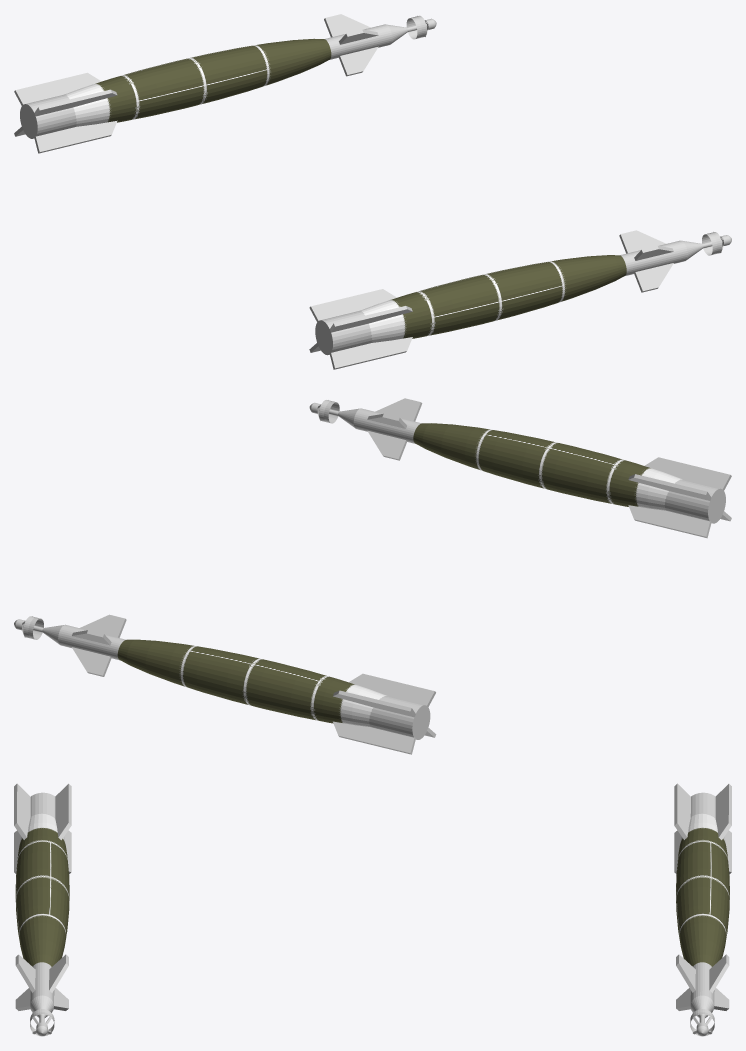
Rendered from f15egbu1026.glb.
3 views of the same model, one above another, from view 1: azimuth 30°, elevation 25°; view 2: azimuth 150°, elevation 25°; view 3: azimuth 270°, elevation 25° (orthographic). The views are drawn at different scales.
Parts seen in each view (by area): view 1: 球.015, 球.003; view 2: 球.003, 球.015; view 3: 球.003, 球.015.
Boxes of the visible parts, <box> form: 球.015: <box>14,14,436,153</box>; 球.003: <box>309,230,731,369</box>; 球.003: <box>309,398,731,538</box>; 球.015: <box>14,614,436,754</box>; 球.003: <box>14,783,71,1036</box>; 球.015: <box>674,783,731,1036</box>.
Size of the model in its own units: 4.24 by 0.4634 by 5.77.
1 material, 1 textured.
